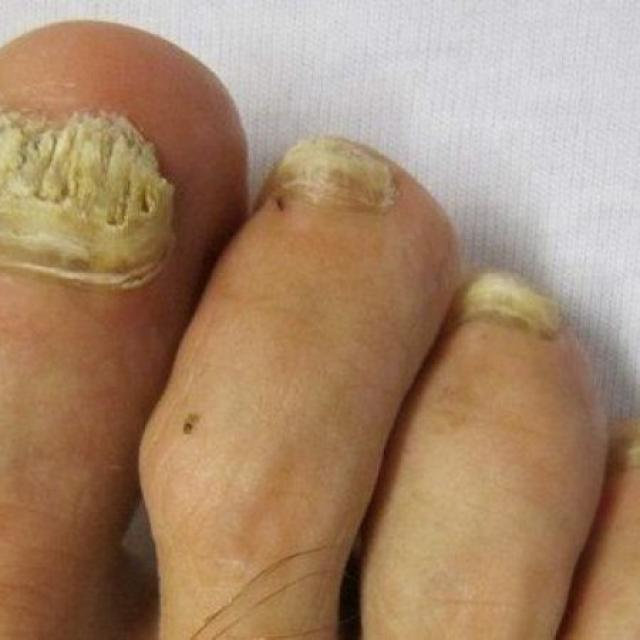diabetes: (2, 98, 172, 281), (273, 136, 392, 207)
